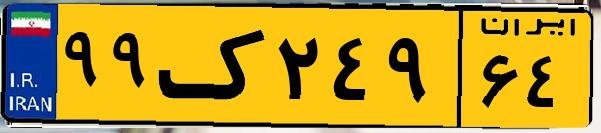2: (270, 28, 330, 110)
4: (330, 28, 385, 110), (525, 38, 570, 115)
6: (475, 38, 525, 113)
9: (385, 28, 445, 110), (57, 26, 110, 100), (110, 28, 158, 98)
ک: (158, 12, 270, 120)
